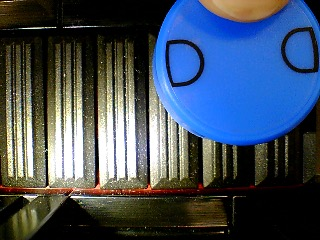MIPO2: (152, 1, 320, 147)
